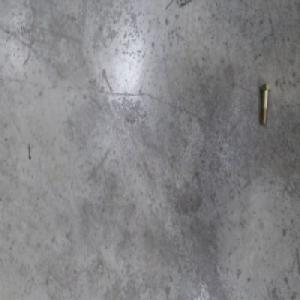Bolt: (258, 82, 271, 125)
